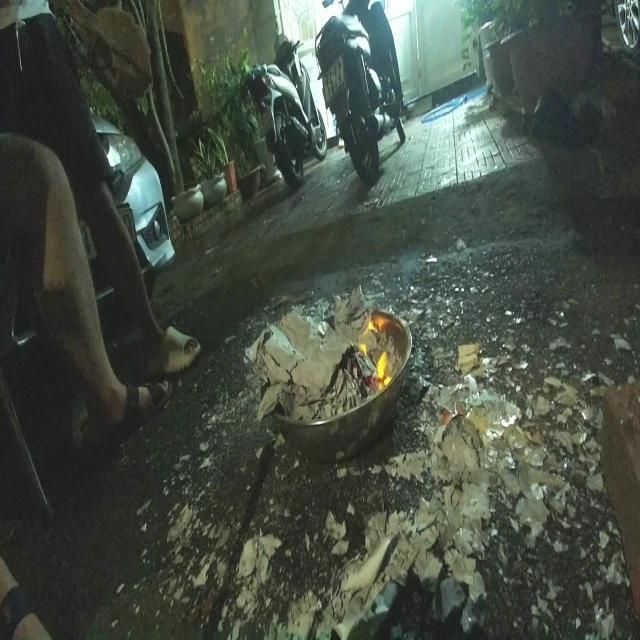Fire: (358, 308, 392, 394)
